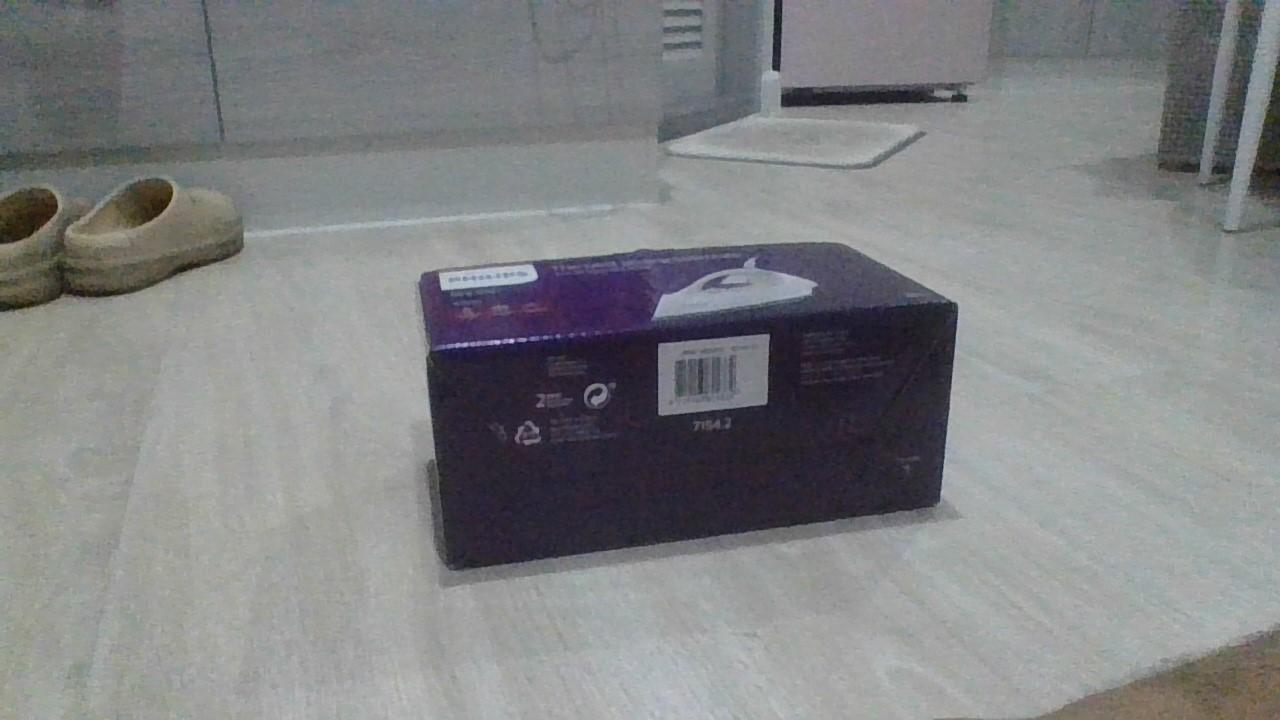IRON: (413, 237, 962, 575)
